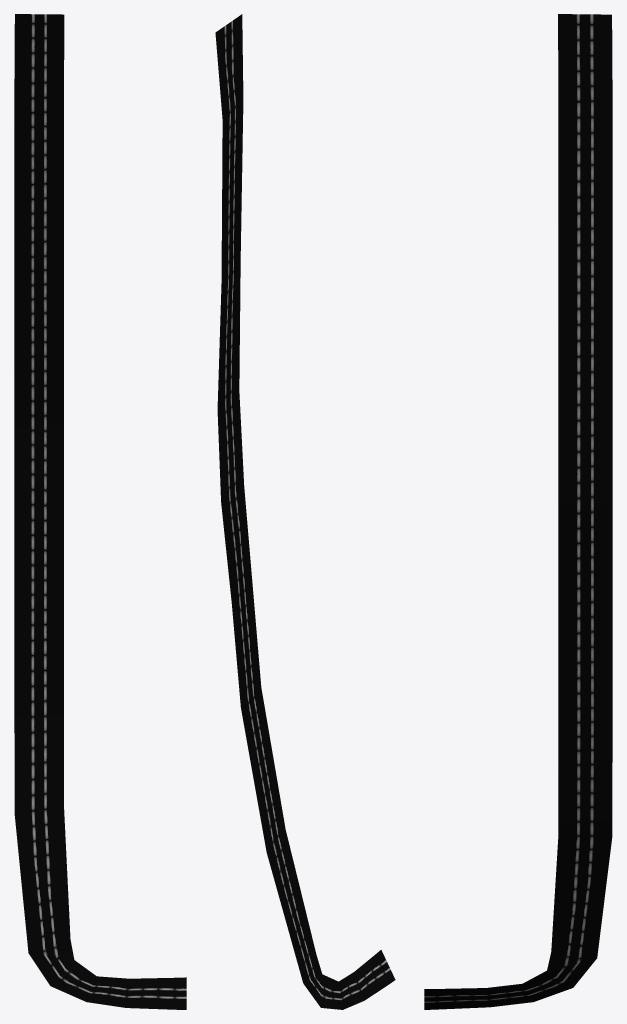
Rendered from front_stitchning.glb.
3 views of the same model, side by side, from view 1: azimuth 90°, elevation 25°; view 2: azimuth 150°, elevation 25°; view 3: azimuth 270°, elevation 25° (orthographic). The views are drawn at different scales.
Parts seen in each view (by area): view 1: SM_T_Front_stitchning; view 2: SM_T_Front_stitchning; view 3: SM_T_Front_stitchning.
Part boxes in pixels (left/top/right/bottom): SM_T_Front_stitchning: left=14, top=14, right=186, bottom=1009; SM_T_Front_stitchning: left=215, top=14, right=395, bottom=1009; SM_T_Front_stitchning: left=424, top=14, right=612, bottom=1009.
Bounding box in the file's own units: 0.102 × 1.04 × 0.1703.
1 material, 1 textured.
